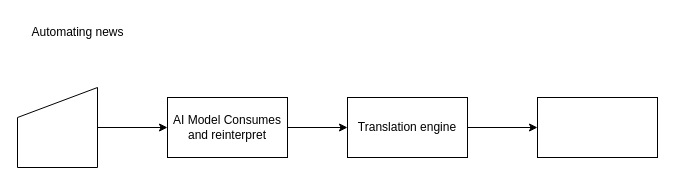
Some shapes in this 675 by 185 pixel diagram are drawn without their labels. The box of each missing label's shape, as (x1, y1, x2, y2) in pixels:
Input Multi News source: (16, 86, 98, 168)
Publish news: (536, 96, 658, 158)
